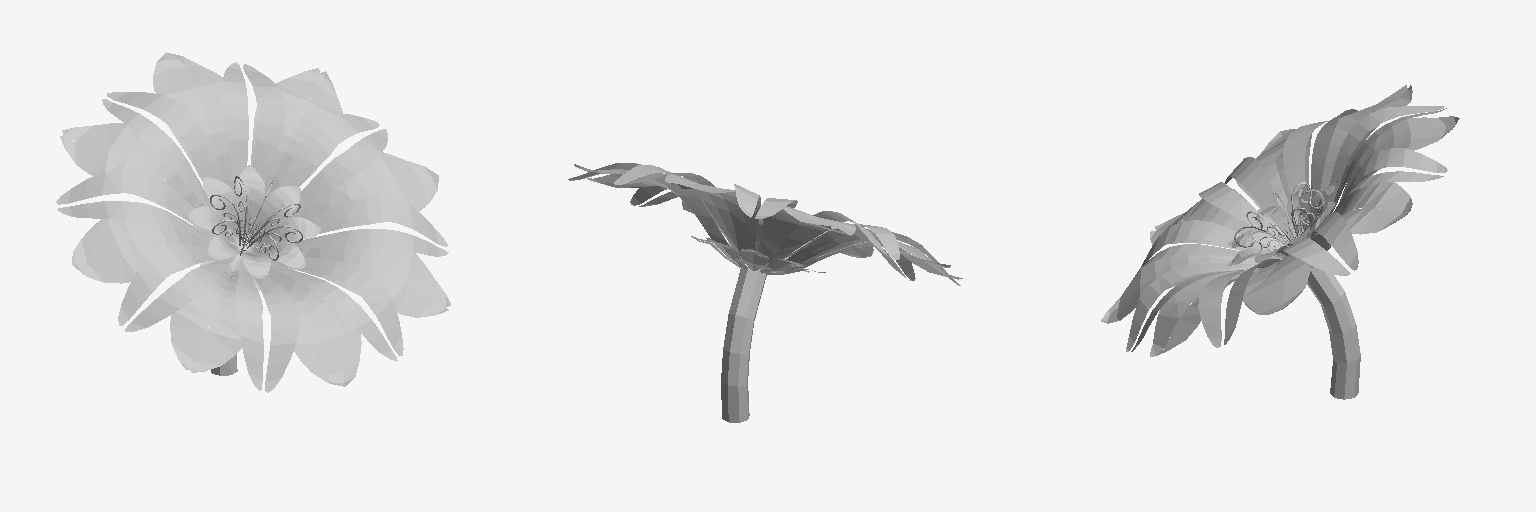
Rendered from bush_small.obj.
3 views of the same model, side by side, from view 1: azimuth 30°, elevation 25°; view 2: azimuth 150°, elevation 25°; view 3: azimuth 270°, elevation 25° (orthographic).
Parts seen in each view (by area): view 1: Bush_Flower_Small_Plane.006; view 2: Bush_Flower_Small_Plane.006; view 3: Bush_Flower_Small_Plane.006.
Boxes of the visible parts, <box> form: Bush_Flower_Small_Plane.006: <box>56,52,450,392</box>; Bush_Flower_Small_Plane.006: <box>568,163,962,422</box>; Bush_Flower_Small_Plane.006: <box>1101,85,1459,399</box>.
Bounding box in the file's own units: 4.99 × 3.58 × 4.24.